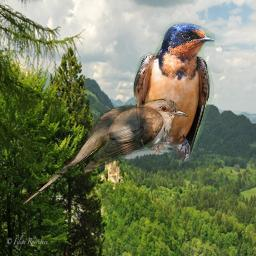Cuckoo: (22, 98, 189, 206)
Swallow: (133, 22, 215, 163)
